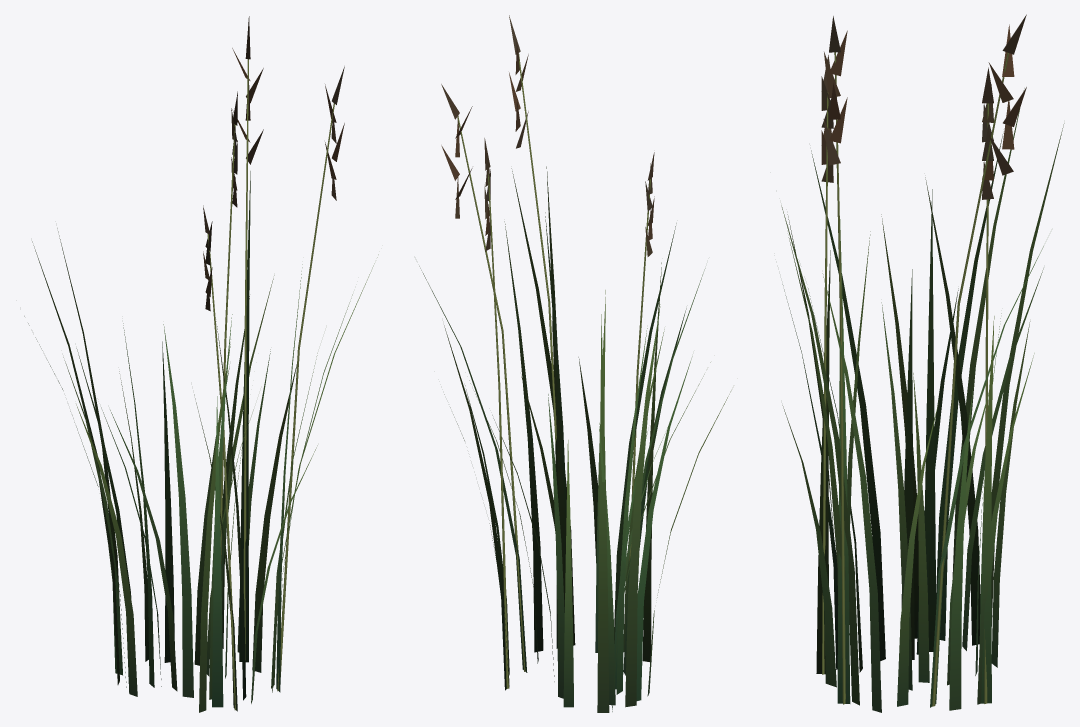
The model's file is sedge-a.lod0.glb.
3 views of the same model, side by side, from view 1: azimuth 30°, elevation 25°; view 2: azimuth 150°, elevation 25°; view 3: azimuth 270°, elevation 25° (orthographic). The views are drawn at different scales.
Parts seen in each view (by area): view 1: sedge-a.lod0; view 2: sedge-a.lod0; view 3: sedge-a.lod0.
Part boxes in pixels (box(x1,y1,x2,y2)): sedge-a.lod0: box(24, 16, 378, 712); sedge-a.lod0: box(419, 15, 731, 712); sedge-a.lod0: box(781, 14, 1064, 712).
Size of the model in its own units: 0.3674 by 0.7798 by 0.2919.
